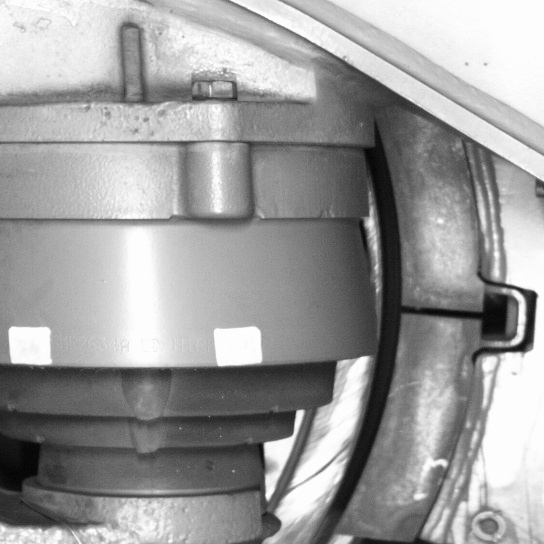KnifeSwitch: (304, 143, 481, 542)
